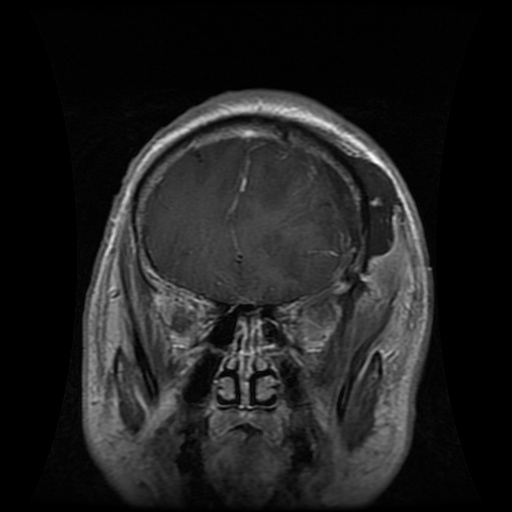glioma: (294, 154, 360, 247)
